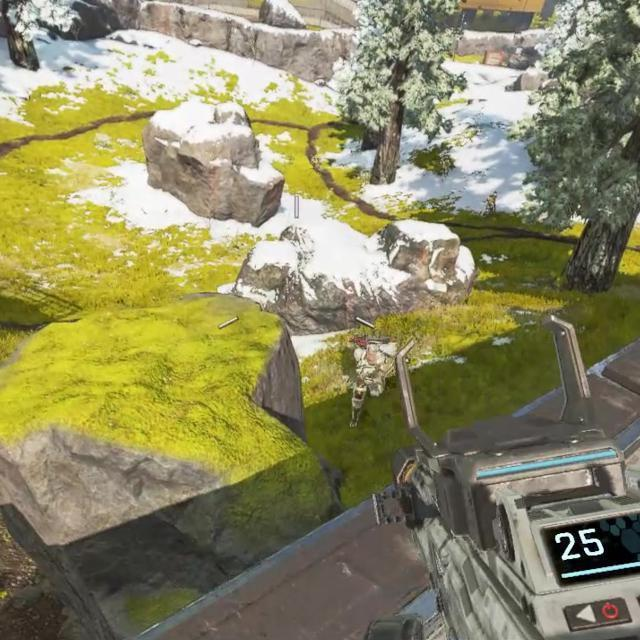avatar: (348, 337, 399, 427)
